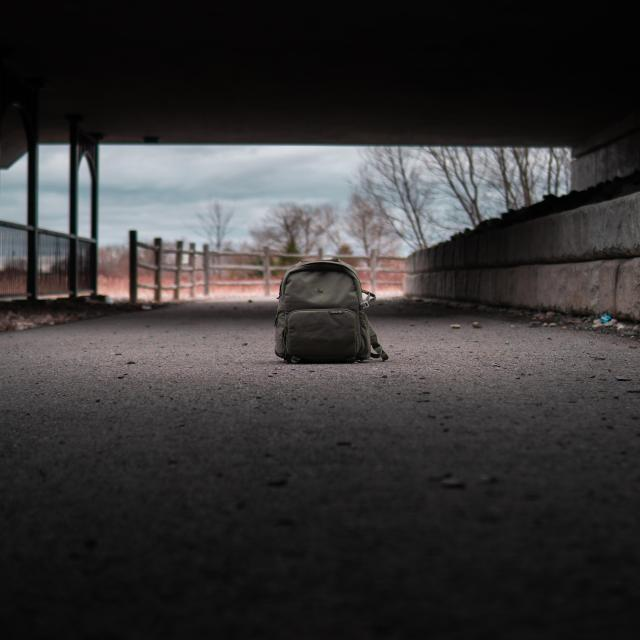backpack: (272, 259, 380, 363)
